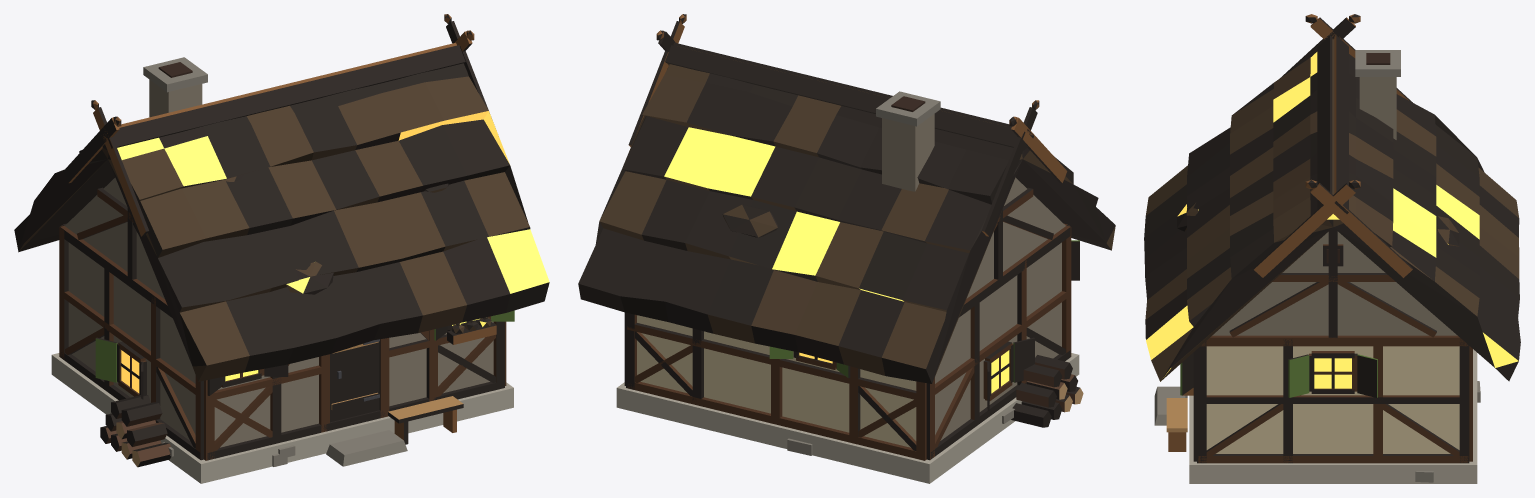
File: Dorf_Bauernhaus_Klein_Beschaedigt.fbx
The picture shows the model from 3 angles, left to right: view 1: azimuth 30°, elevation 25°; view 2: azimuth 150°, elevation 25°; view 3: azimuth 270°, elevation 25°; orthographic projection. The views are drawn at different scales.
Visible parts, largest first — view 1: Dorf_Bauernhaus_Klein_Beschaedigt; view 2: Dorf_Bauernhaus_Klein_Beschaedigt; view 3: Dorf_Bauernhaus_Klein_Beschaedigt.
Boxes of the visible parts, x1,y1,x2,y2 form: Dorf_Bauernhaus_Klein_Beschaedigt: [14, 14, 549, 483]; Dorf_Bauernhaus_Klein_Beschaedigt: [578, 14, 1115, 483]; Dorf_Bauernhaus_Klein_Beschaedigt: [1144, 14, 1520, 483].
Size of the model in its own units: 6.81 by 5.77 by 6.28.
